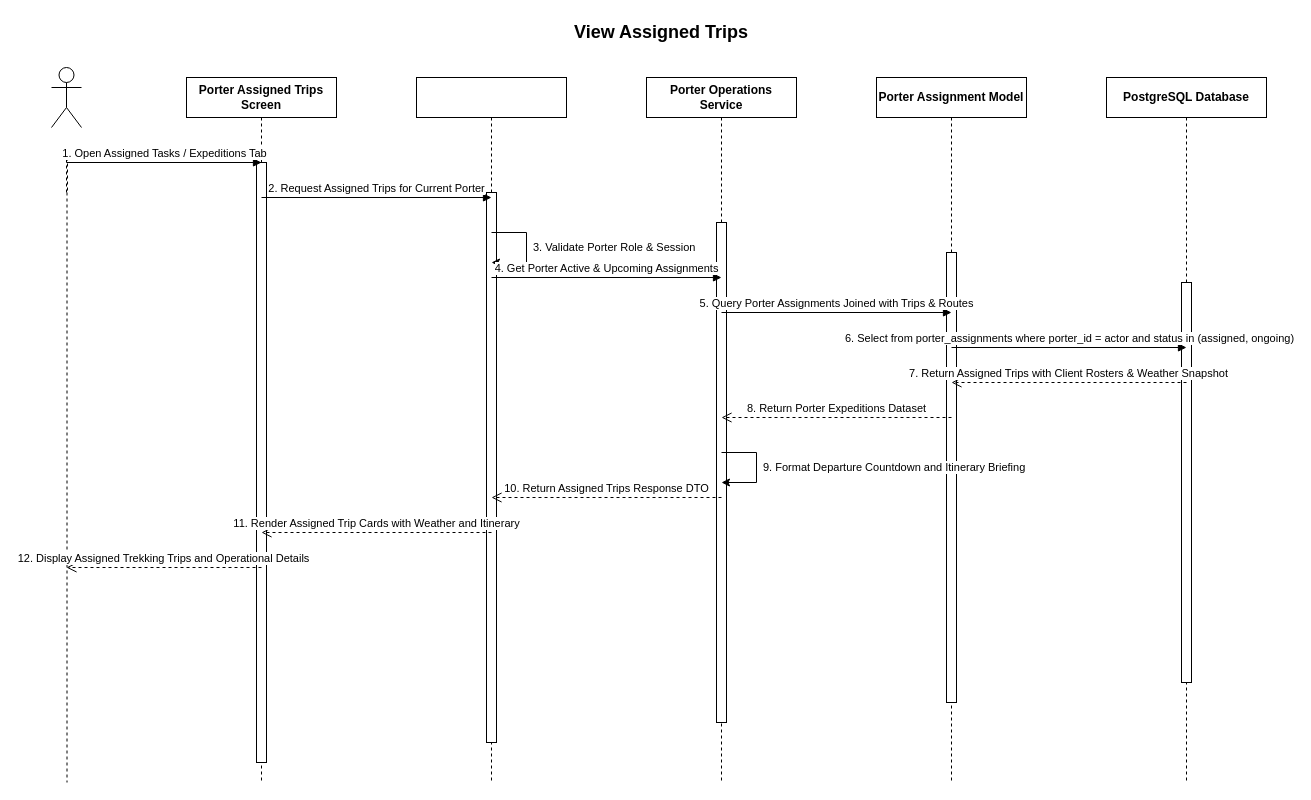
Some shapes in this 1311 by 800 pixel diagram are drawn without their labels. Each missing label, with the box of its shape:
Porter: (50, 66, 82, 128)
Porter Operations Controller: (416, 76, 566, 782)
